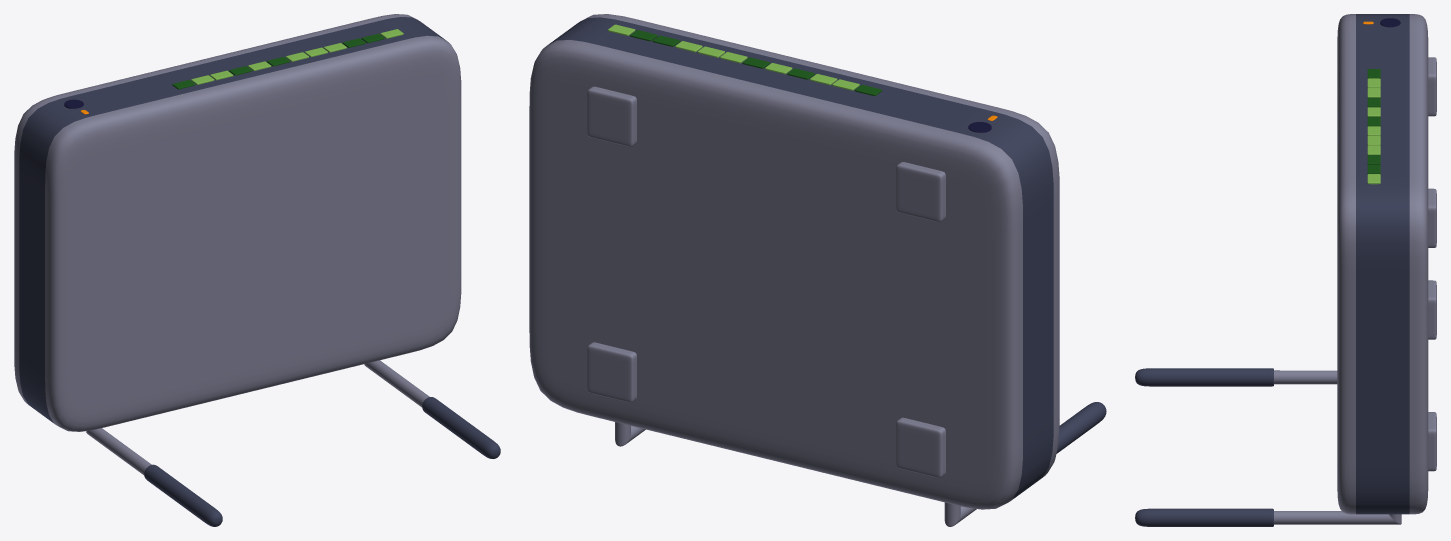
File: generic_router.glb
3 views of the same model, side by side, from view 1: azimuth 30°, elevation 25°; view 2: azimuth 150°, elevation 25°; view 3: azimuth 270°, elevation 25° (orthographic). The views are drawn at different scales.
Visible parts, largest first — view 1: Router; view 2: Router; view 3: Router.
Part boxes in pixels (x1,y1,x2,y2): Router: (14,14,500,526); Router: (529,14,1106,526); Router: (1135,14,1436,526).
Size of the model in its own units: 1.23 by 0.9776 by 0.7565.
